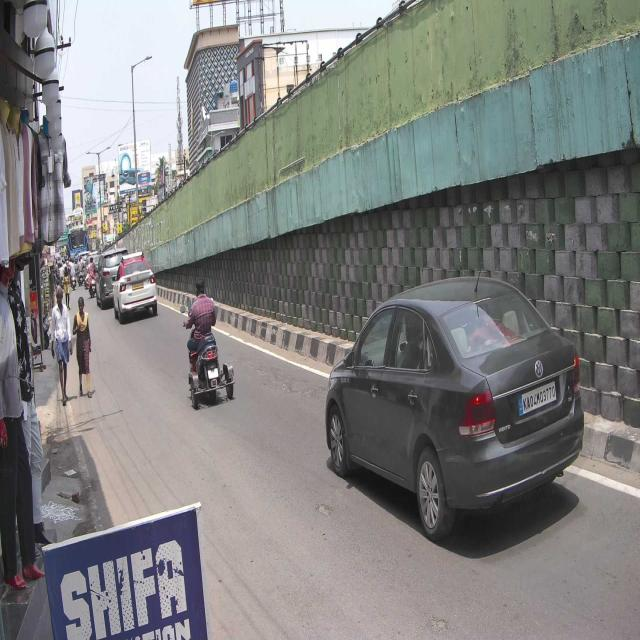single_rider: (181, 276, 236, 409)
